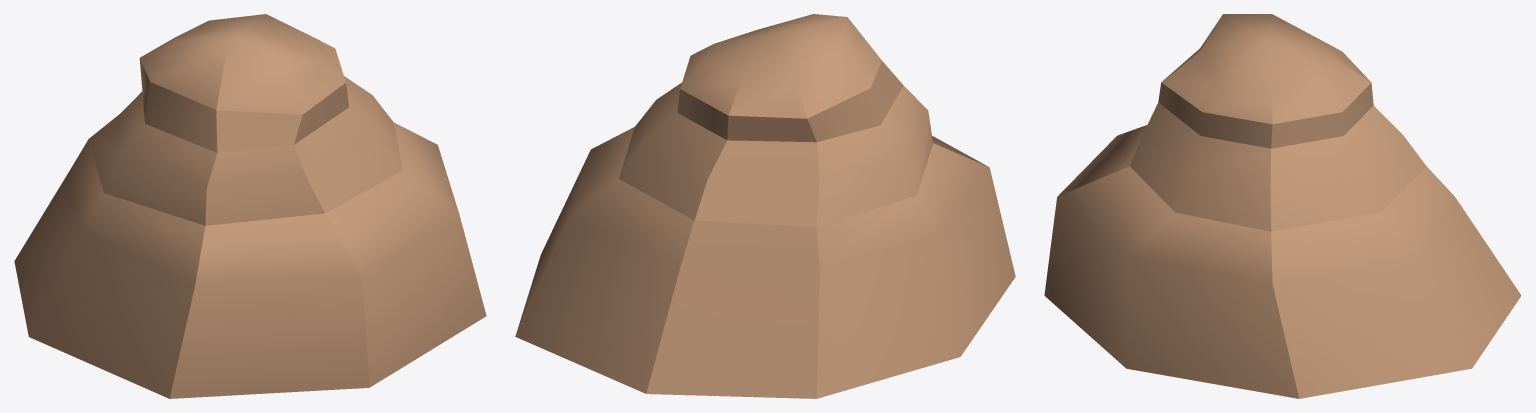
Rendered from Rock5Clean.fbx.
3 renders of one model, left to right at view 1: azimuth 30°, elevation 25°; view 2: azimuth 150°, elevation 25°; view 3: azimuth 270°, elevation 25°, orthographic. The views are drawn at different scales.
Parts seen in each view (by area): view 1: pSphere1; view 2: pSphere1; view 3: pSphere1.
Part boxes in pixels (<box>): pSphere1: <box>14,14,486,398</box>; pSphere1: <box>515,14,1015,398</box>; pSphere1: <box>1044,14,1521,398</box>.
Bounding box in the file's own units: 0.5731 × 0.3568 × 0.5915.
